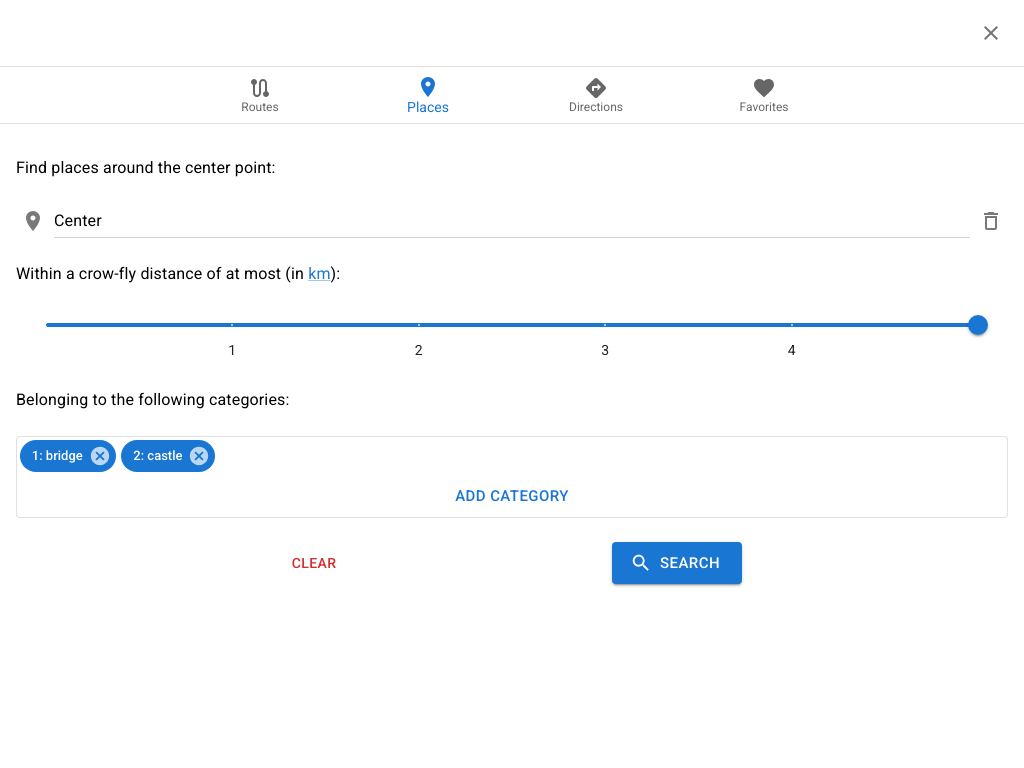
Test: <SearchPlacesPanel /> › bottom buttons › should disable Search button if center is missing
Expected: the button "Search" is enabled, [612,542,742,584]
What coordinates should you click on to do the following:
click the button named "Remove point"
I would click on:
 (991, 221)
Its box is [974,204,1008,238].
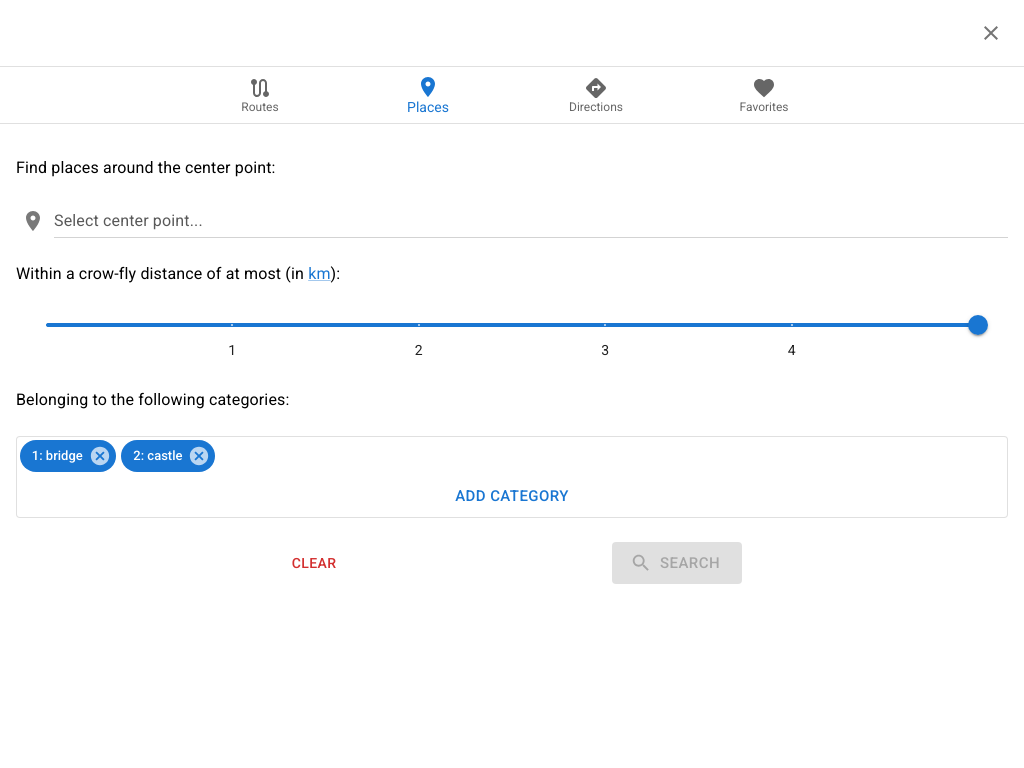
Expected: the button "Search" is disabled, [612,542,742,584]
